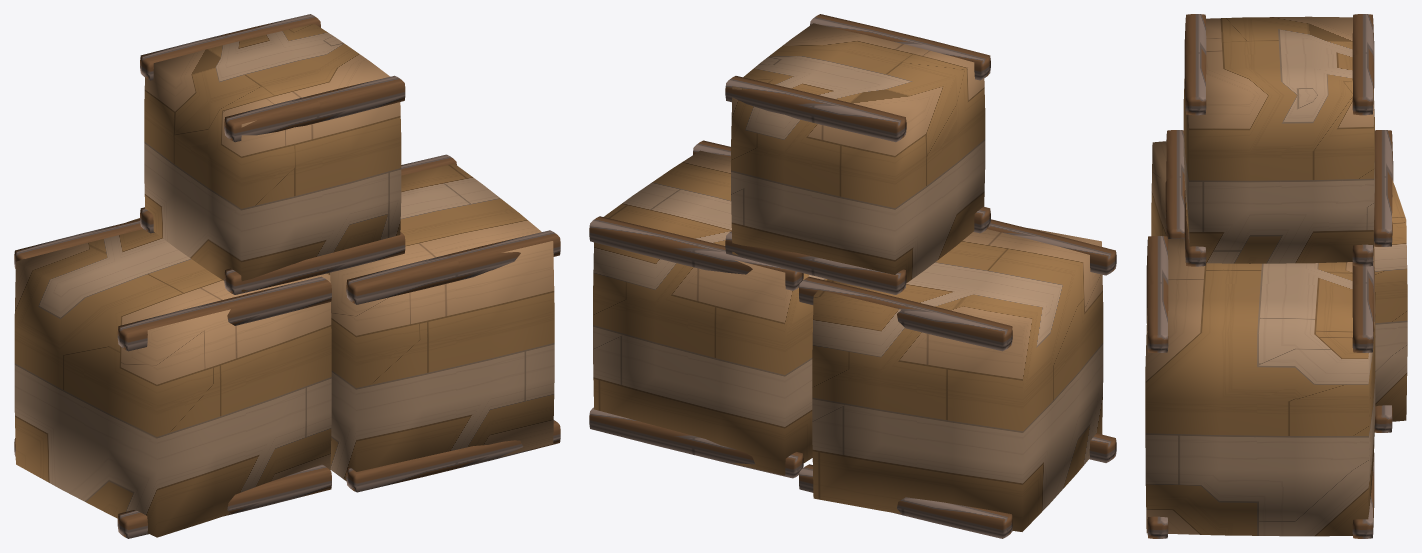
File: prop_crate_stack.glb
The picture shows the model from 3 angles, left to right: view 1: azimuth 30°, elevation 25°; view 2: azimuth 150°, elevation 25°; view 3: azimuth 270°, elevation 25°; orthographic projection.
Visible parts, largest first — view 1: prop_crate_wood, prop_crate; view 2: prop_crate_wood, prop_crate; view 3: prop_crate_wood, prop_crate.
Part boxes in pixels (bbox=[...]): prop_crate_wood: bbox=[14, 24, 554, 537]; prop_crate: bbox=[14, 14, 560, 538]; prop_crate_wood: bbox=[593, 23, 1103, 531]; prop_crate: bbox=[589, 14, 1116, 538]; prop_crate_wood: bbox=[1145, 16, 1407, 536]; prop_crate: bbox=[1146, 14, 1393, 538].
Bounding box in the file's own units: 1.31 × 1.1 × 0.6899.
Materials: 2 (2 with a texture image).
